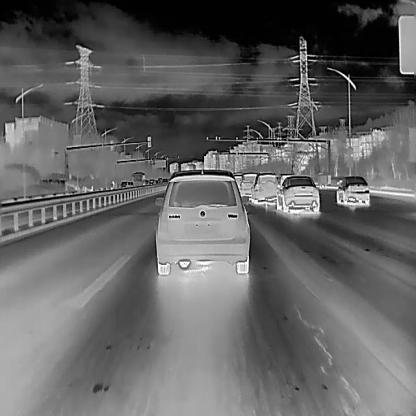car: (155, 168, 250, 274), (275, 175, 320, 214), (335, 175, 370, 206), (250, 172, 278, 203), (239, 171, 258, 196), (131, 171, 145, 186), (120, 181, 128, 189), (161, 177, 168, 185), (149, 179, 156, 186), (127, 180, 131, 187), (144, 180, 149, 185), (157, 177, 162, 182), (156, 180, 160, 185), (130, 181, 133, 187)
